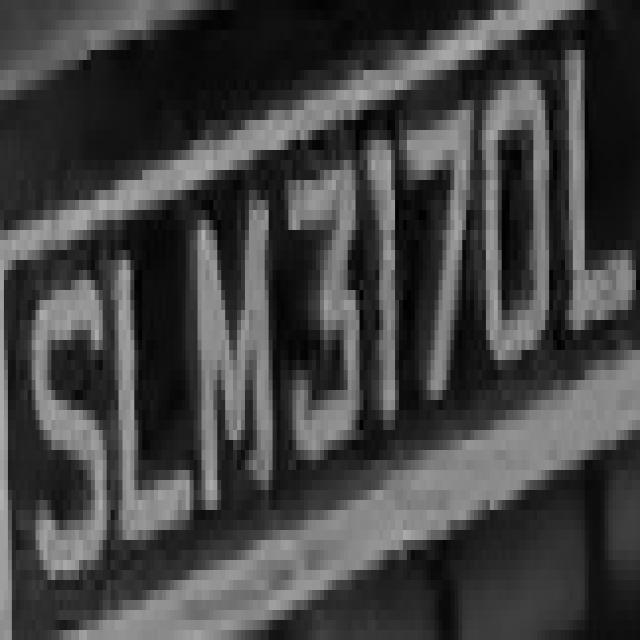0: (470, 70, 553, 390)
1: (363, 110, 403, 450)
3: (288, 150, 368, 470)
7: (395, 90, 478, 460)
L: (553, 0, 640, 350), (106, 230, 194, 570)
M: (186, 180, 280, 510)
S: (28, 250, 102, 570)
